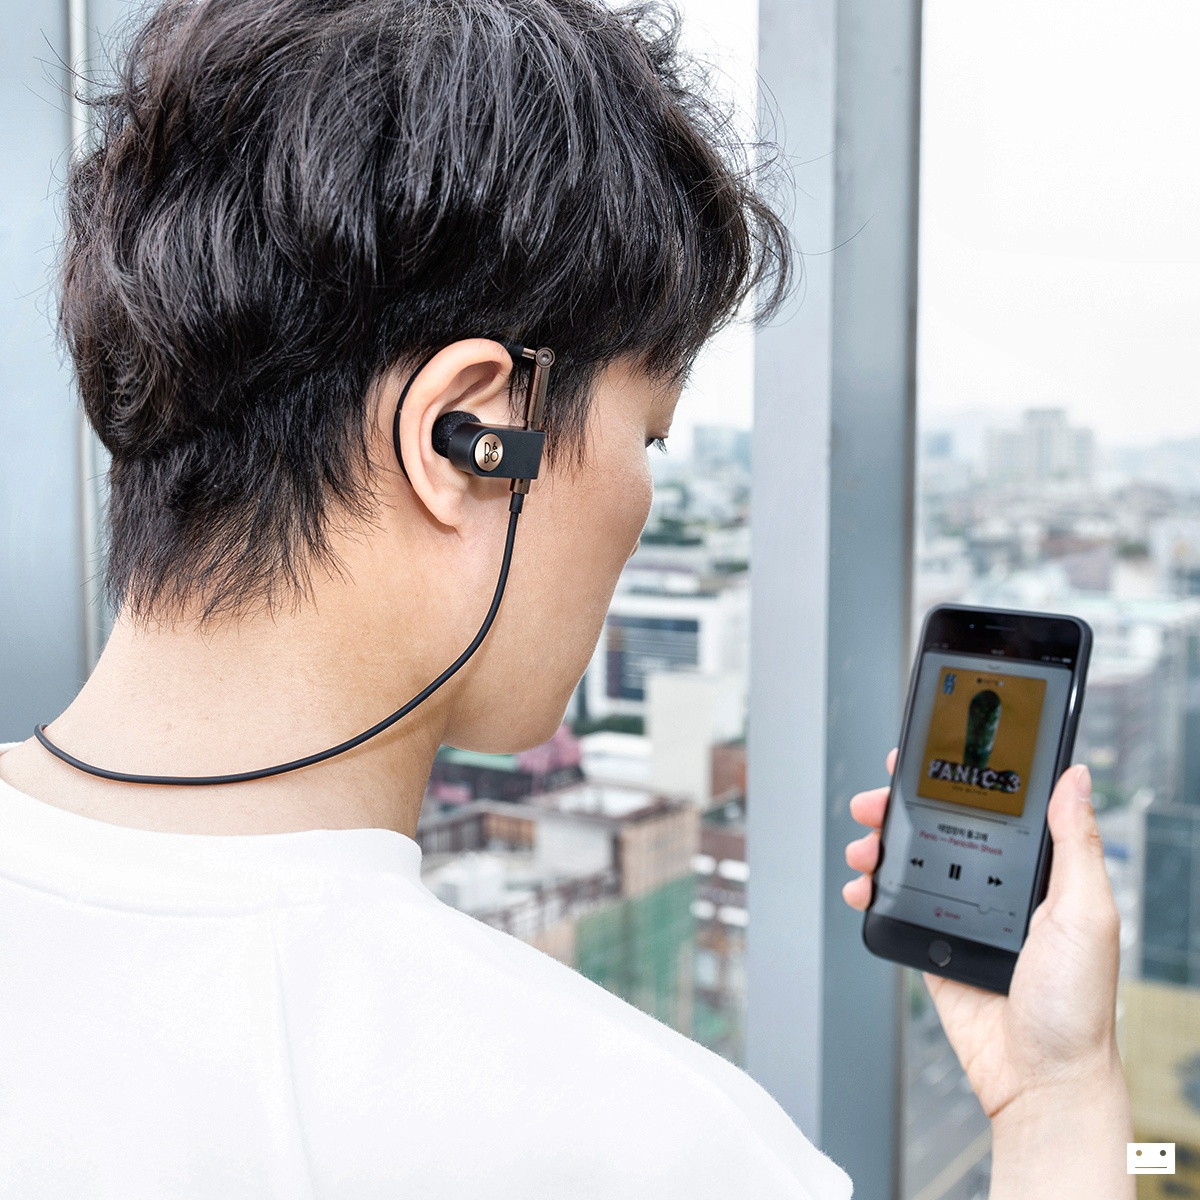earphone: (398, 338, 515, 533)
